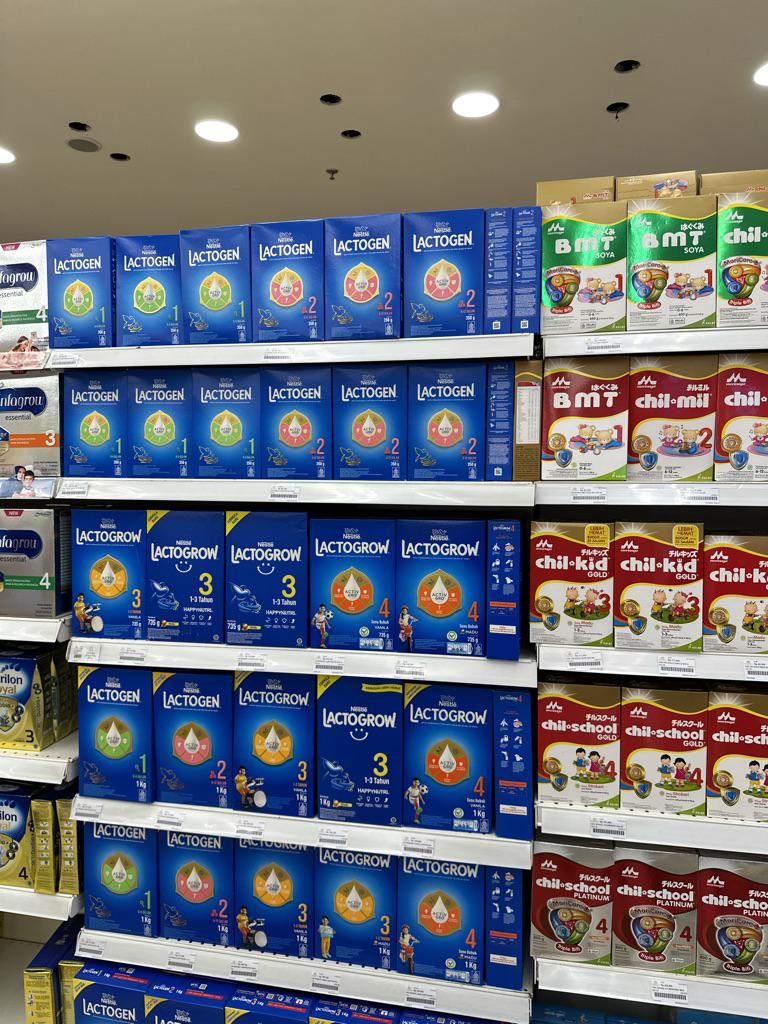LACTOGEN 1 Happynutri 24x350g N1 ID_REDESIGN2: (179, 224, 252, 345), (124, 366, 196, 479), (192, 365, 262, 479), (114, 234, 183, 347), (46, 236, 114, 348), (61, 366, 128, 477)
